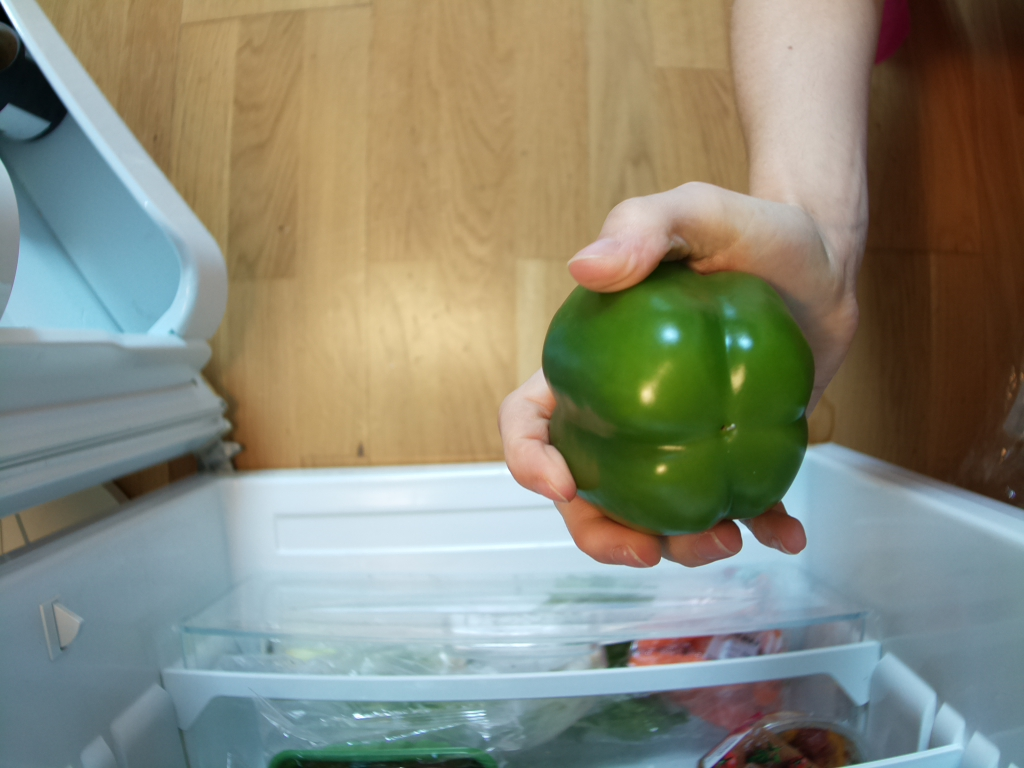pepper: (544, 266, 814, 535)
